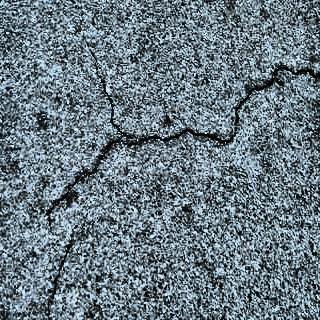crack: (69, 4, 125, 134), (36, 205, 91, 314), (93, 120, 243, 154), (227, 63, 320, 114), (69, 148, 110, 184), (43, 175, 92, 202)
